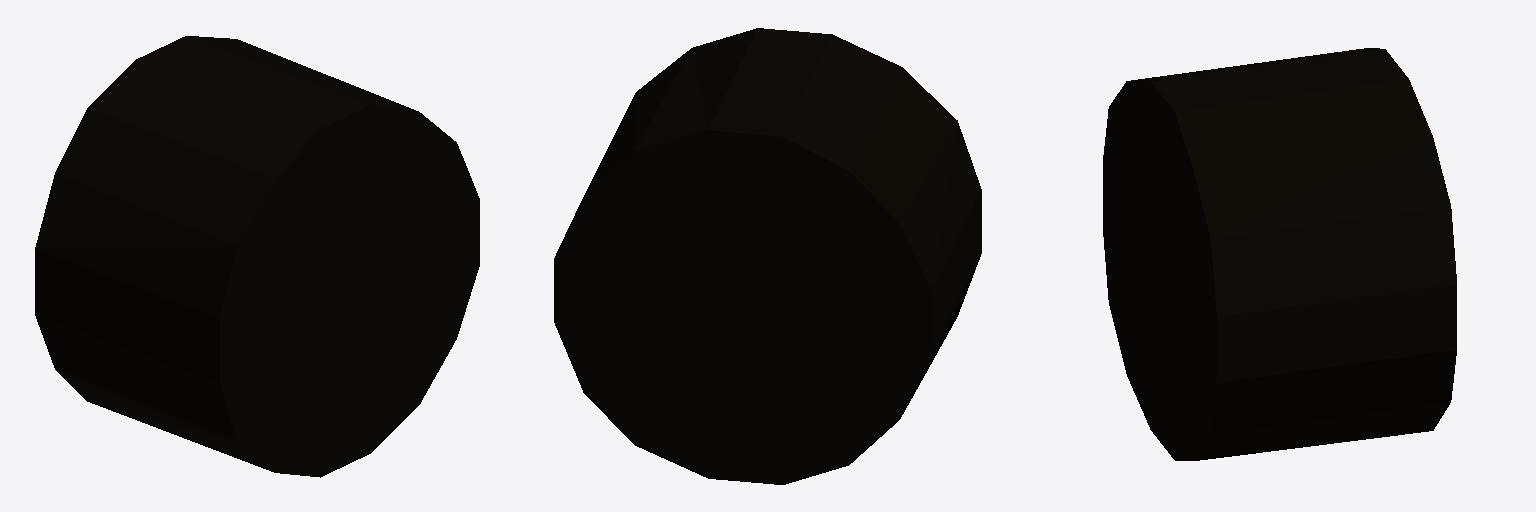
File: original-31.obj
The picture shows the model from 3 angles: view 1: azimuth 30°, elevation 25°; view 2: azimuth 150°, elevation 25°; view 3: azimuth 270°, elevation 25°; orthographic projection.
Parts seen in each view (by area): view 1: mesh29/mesh29-geometry#mesh29-geometry; view 2: mesh29/mesh29-geometry#mesh29-geometry; view 3: mesh29/mesh29-geometry#mesh29-geometry.
Boxes of the visible parts, x1,y1,x2,y2 form: mesh29/mesh29-geometry#mesh29-geometry: [35, 36, 479, 477]; mesh29/mesh29-geometry#mesh29-geometry: [554, 28, 981, 484]; mesh29/mesh29-geometry#mesh29-geometry: [1103, 48, 1456, 460].
Bounding box in the file's own units: 0.1062 × 0.0918 × 0.0847.